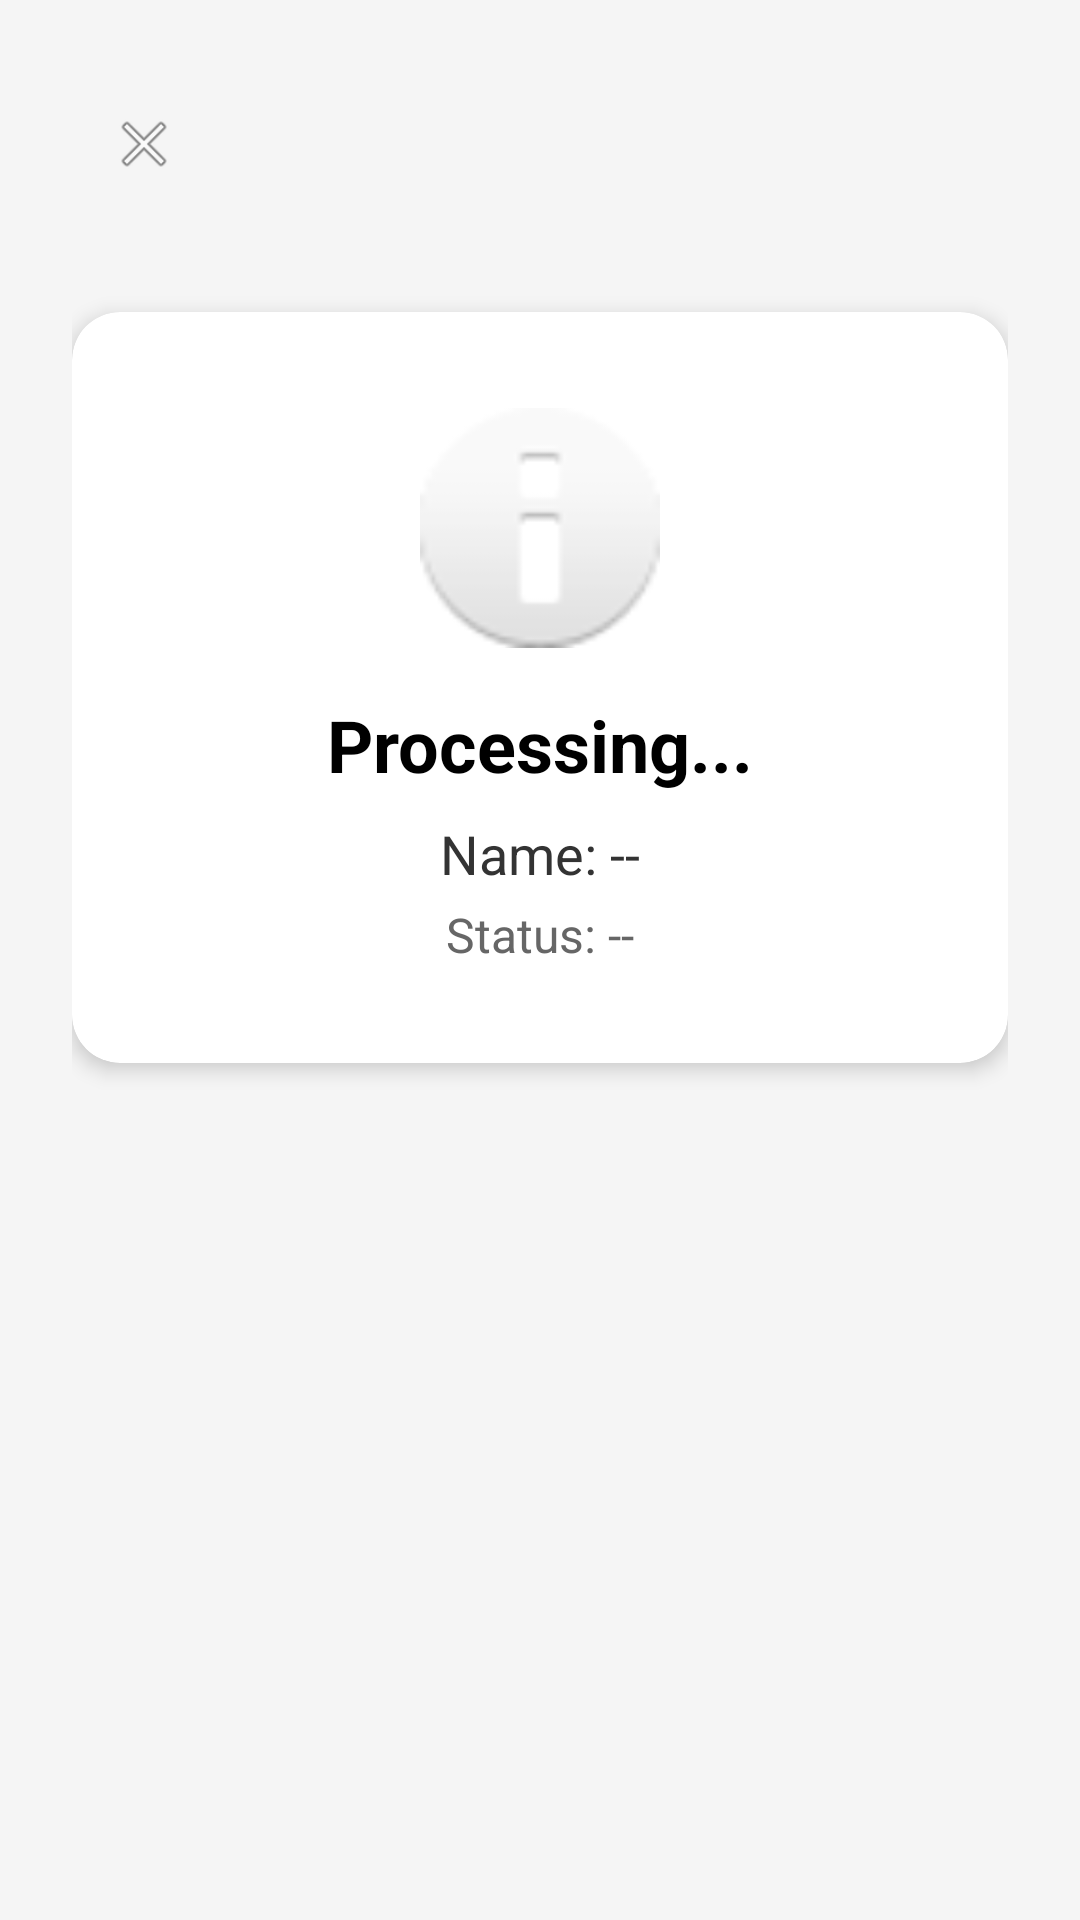

Icons on this 1080*1920 Android screen, each with the point to tap as point (x, y):
close clear cancel: point (144, 144)
info: point (540, 550)
